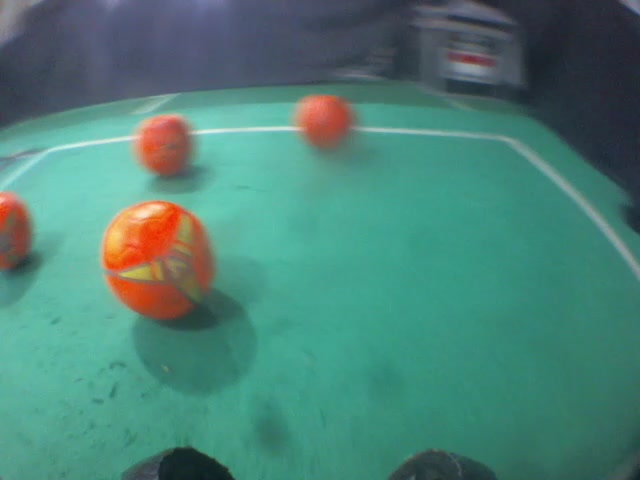ball: (92, 199, 222, 328), (128, 107, 201, 181), (1, 181, 46, 278), (294, 89, 358, 157)
